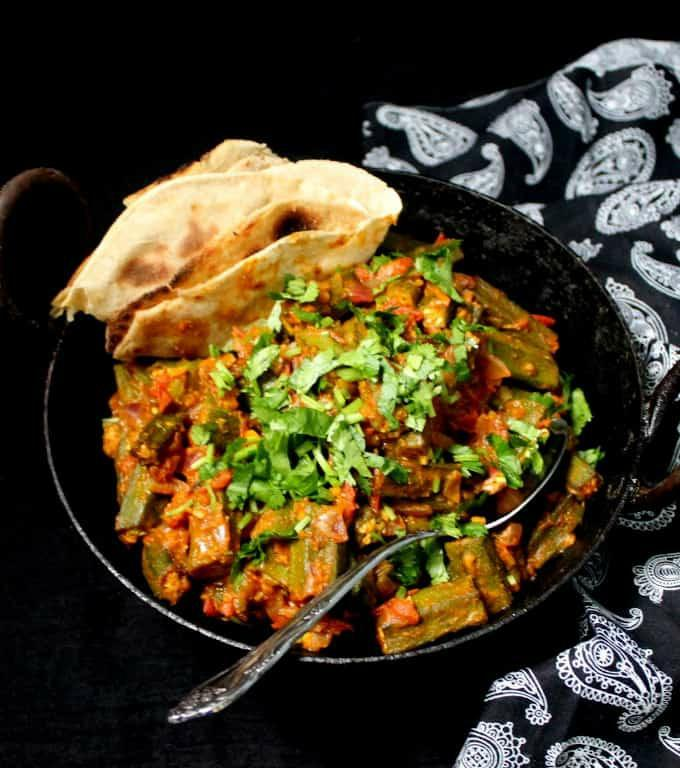BhindiMasala: (102, 237, 597, 654)
